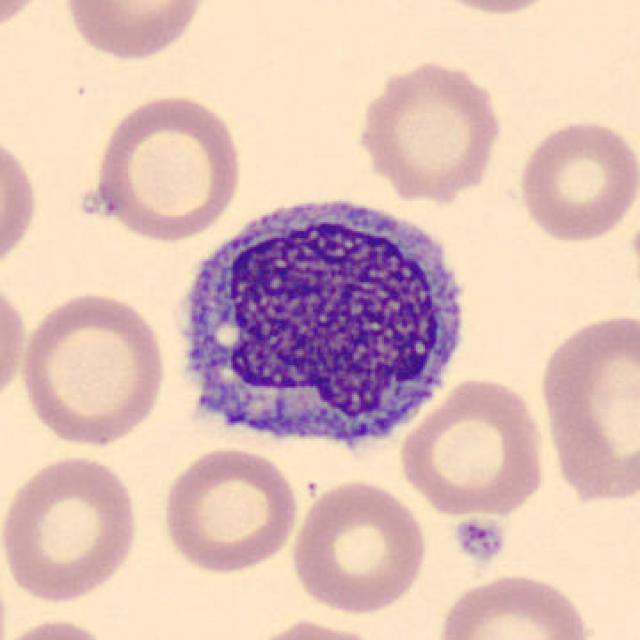Monocyte: (165, 183, 480, 468)
Platelets: (452, 515, 508, 564)
RBC: (82, 88, 247, 243), (16, 288, 171, 450), (395, 372, 551, 520), (352, 56, 507, 203), (0, 449, 144, 606), (534, 303, 638, 510), (286, 476, 430, 617), (158, 442, 302, 574), (512, 115, 638, 245), (432, 569, 594, 640), (58, 0, 211, 63), (0, 126, 41, 280), (0, 275, 30, 411), (238, 615, 393, 640), (0, 613, 117, 640), (416, 0, 569, 18), (0, 0, 53, 40)
